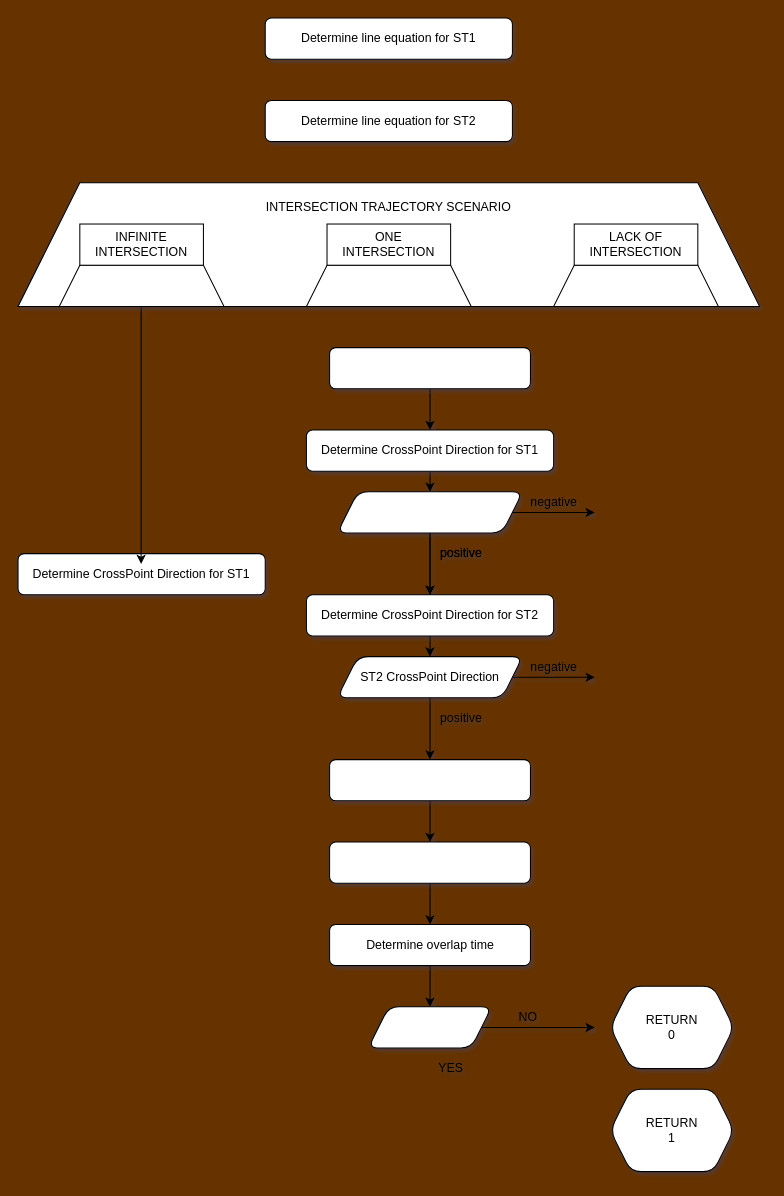
The diagram is 784 pixels wide and 1196 high, and some of its shapes have lost their labels. Here are the shapes that lost their labels. From the top down, the centre of each, then its label:
At [141,285]: "a1=a2, b1=b2, c1=c2".
At [429,368]: "Determine intersection point".
At [429,512]: "ST1 CrossPoint Direction".
At [429,780]: "Determine CrossTime for ST1".
At [429,862]: "Determine CrossTime for ST2".
At [429,1027]: "Times overleap?".
